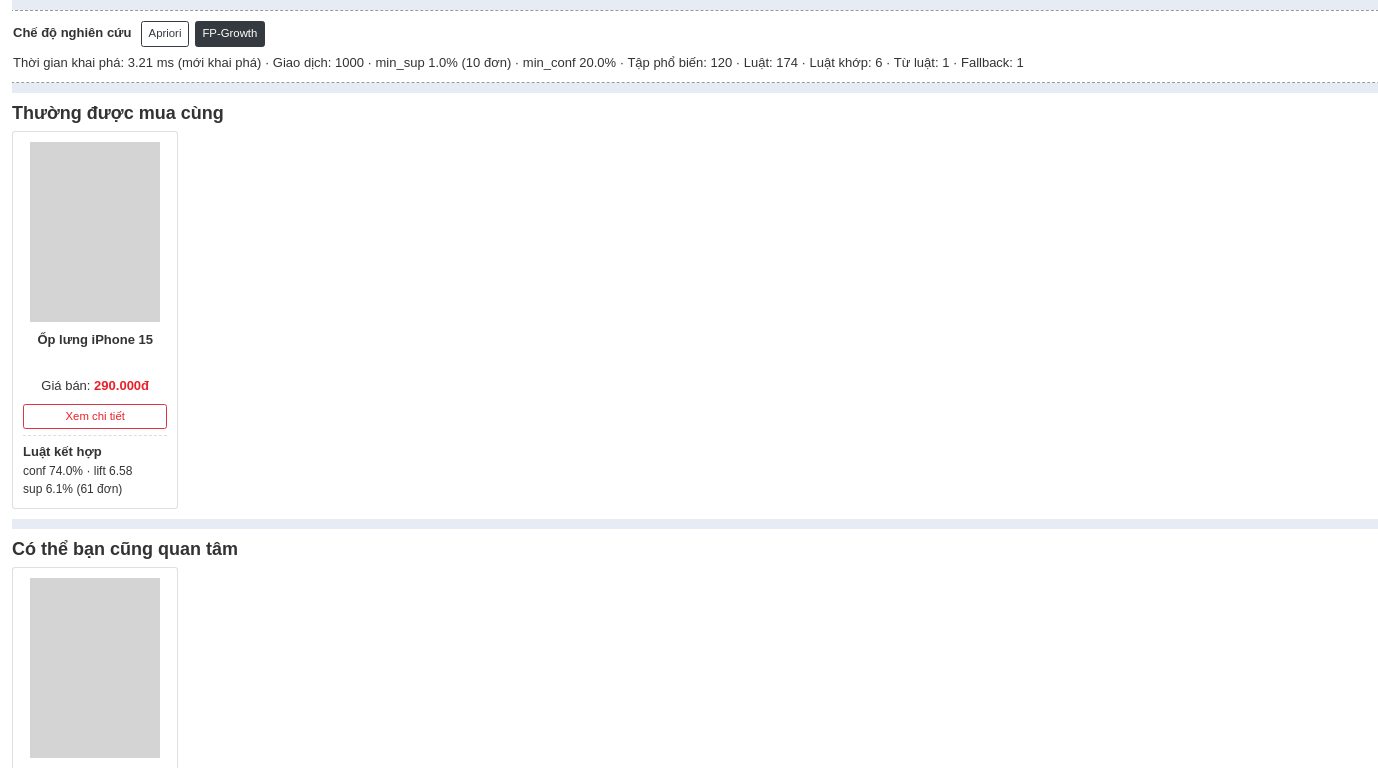
Scenario: ?research=1: đổi Apriori/FP-Growth không tải lại trang, có chỉ số luật và giữ ?research=1 khi chuyển sản phẩm
Check: the text "3.21 ms" is shown, box [13,55,1024,70]
Click the button "Apriori".
click(165, 34)  # box [141,21,189,47]
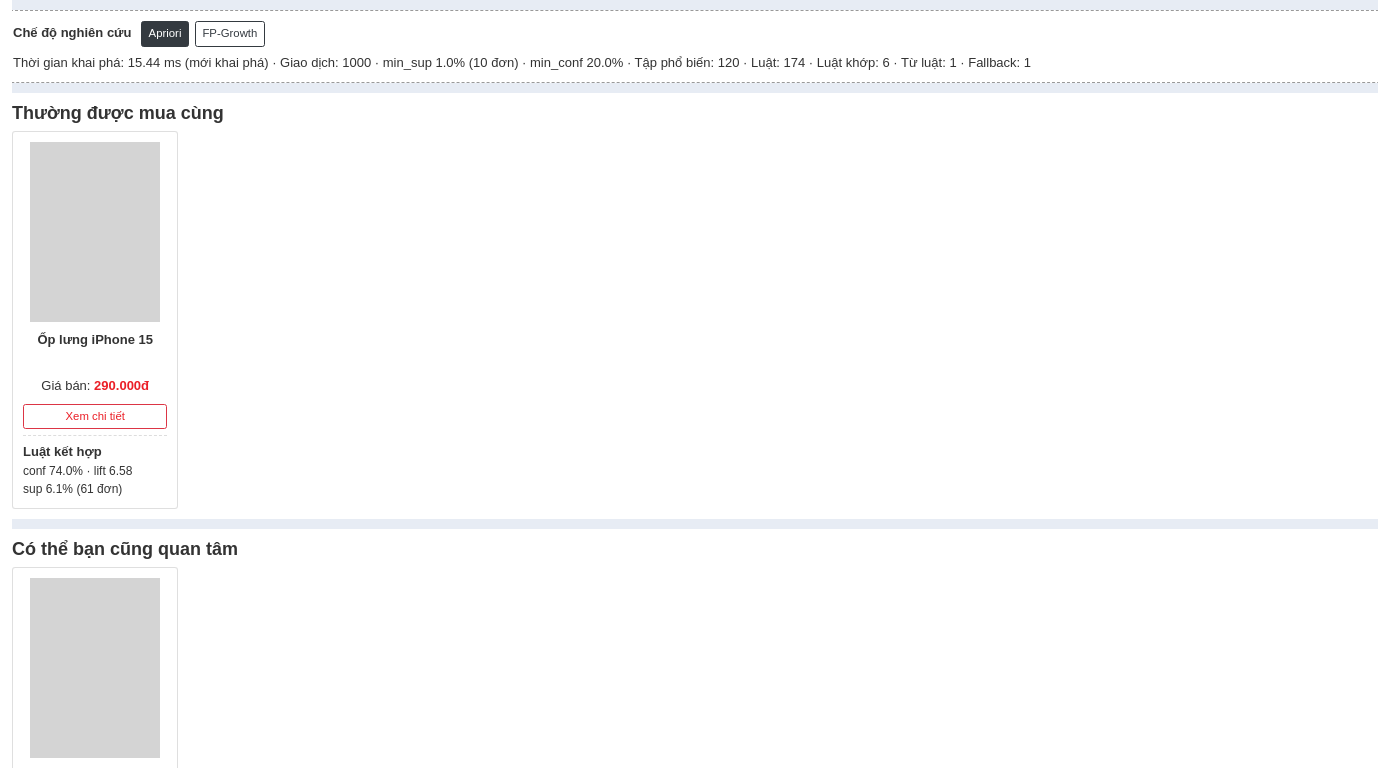
Check: the text "15.44 ms" is shown, box [13,55,1031,70]
